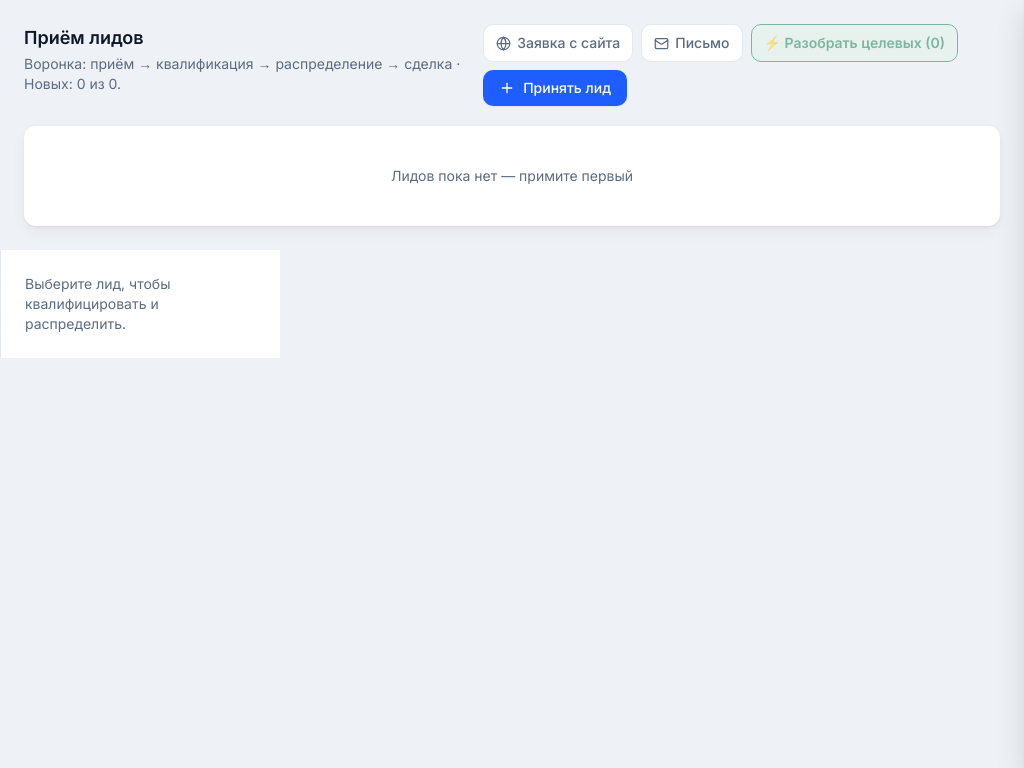
Test case: LeadsWorkspace › кнопка «Принять лид» открывает форму приёма
Expected: the text "Лидов пока нет — примите первый" is shown, [24,126,1000,226]
Click the button "Принять лид". click: click(555, 88)
box: [483,70,627,106]
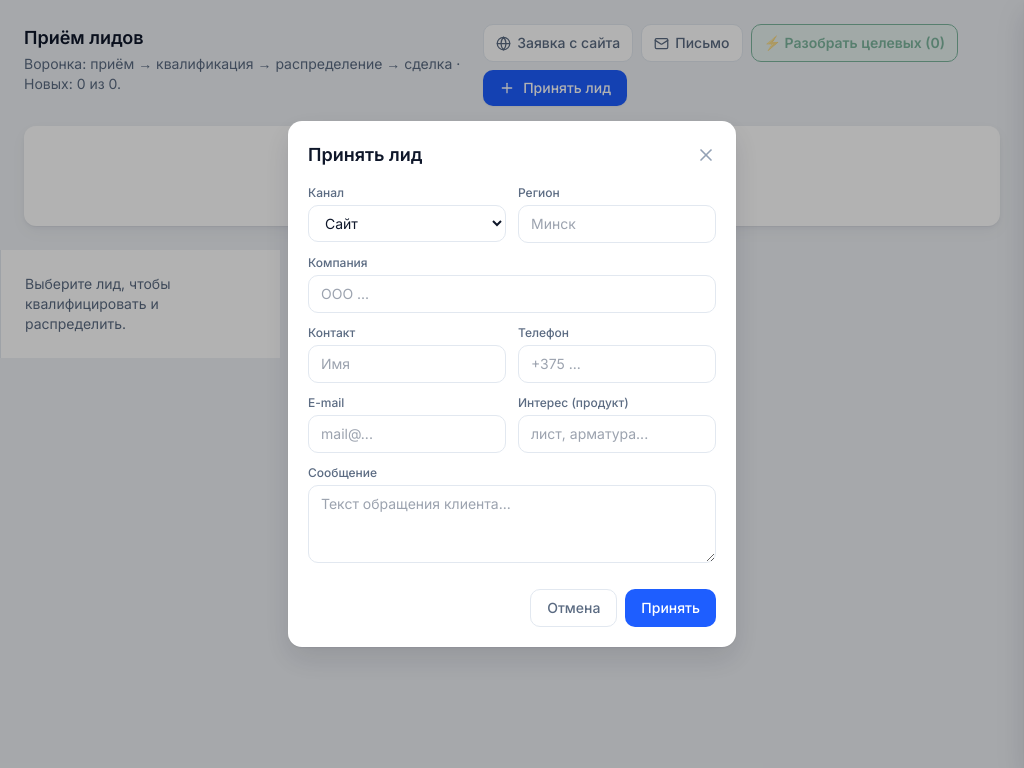
Expected: the text "Принять лид" is shown, [308,144,422,165]
Expected: the field with placeholder "ООО ..." is shown, [308,275,716,313]
